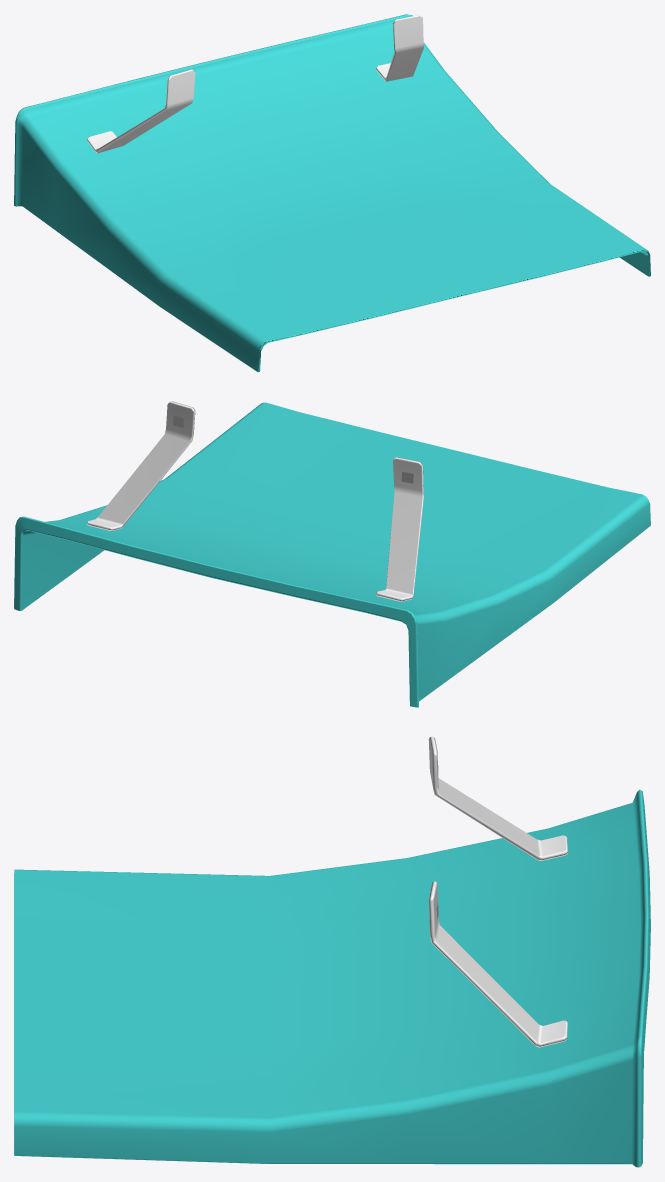
Rendered from Car_Nissan_SkylineGTRVspecR34_1999_Diffuser_SetEH.fbx.
3 views of the same model, one above another, from view 1: azimuth 30°, elevation 25°; view 2: azimuth 150°, elevation 25°; view 3: azimuth 270°, elevation 25° (orthographic). The views are drawn at different scales.
Visible parts, largest first — view 1: Diffuser 6; view 2: Diffuser 6; view 3: Diffuser 6.
Part boxes in pixels (bbox=[...]): Diffuser 6: bbox=[14, 14, 650, 372]; Diffuser 6: bbox=[14, 401, 650, 707]; Diffuser 6: bbox=[14, 736, 650, 1167].
Size of the model in its own units: 0.5551 by 0.2219 by 0.5753.
